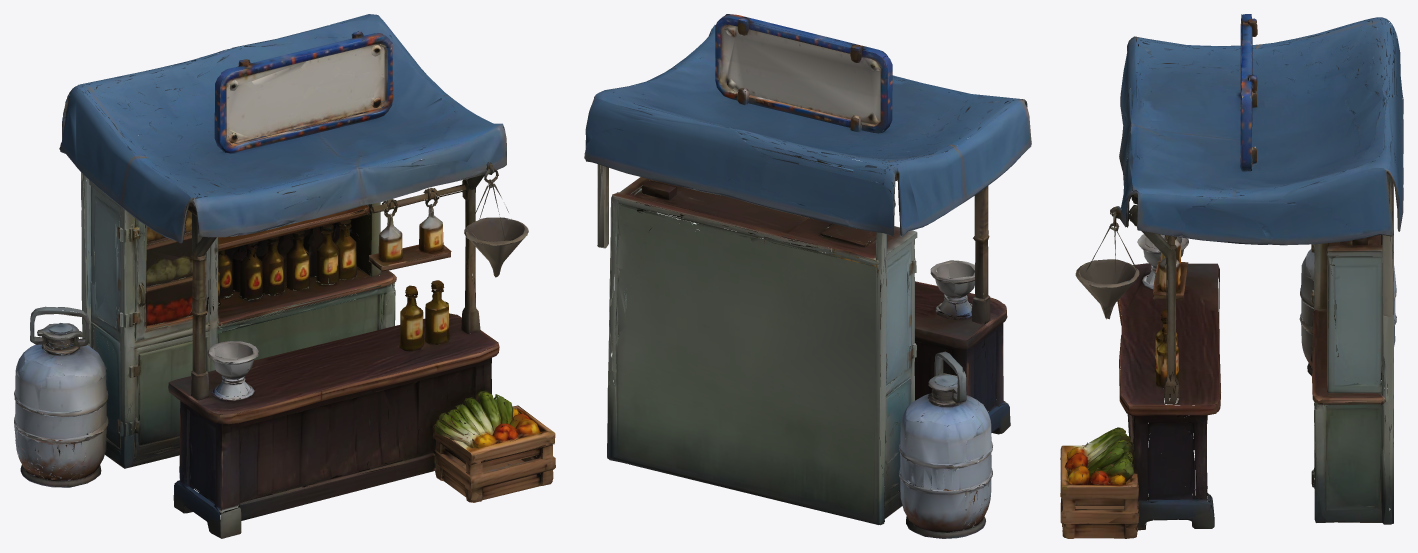
Rendered from env-eda-oil-stall.glb.
The picture shows the model from 3 angles, left to right: view 1: azimuth 30°, elevation 25°; view 2: azimuth 150°, elevation 25°; view 3: azimuth 270°, elevation 25°; orthographic projection.
Visible parts, largest first — view 1: env-eda-oil-stall; view 2: env-eda-oil-stall; view 3: env-eda-oil-stall.
Part boxes in pixels (x1,y1,x2,y2): env-eda-oil-stall: (14, 14, 555, 538); env-eda-oil-stall: (584, 14, 1031, 538); env-eda-oil-stall: (1060, 14, 1403, 538).
Bounding box in the file's own units: 3.41 × 3.4 × 2.54.
1 material, 1 textured.
